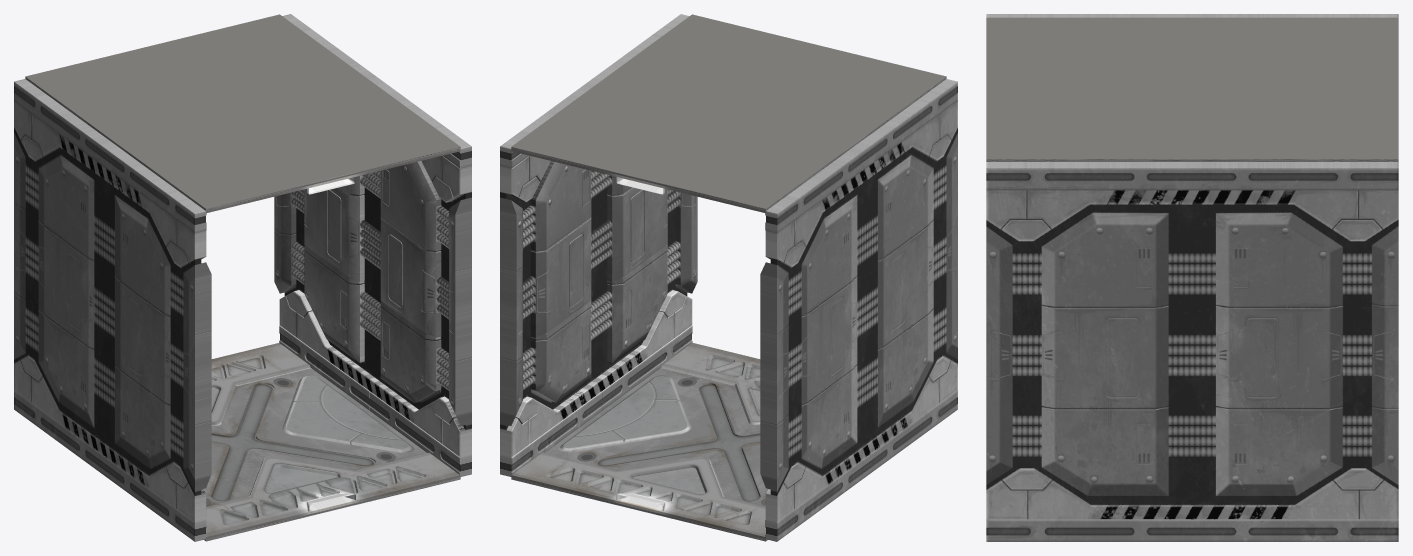
The model's file is lab_wall_01.fbx.
3 renders of one model, left to right at view 1: azimuth 30°, elevation 25°; view 2: azimuth 150°, elevation 25°; view 3: azimuth 270°, elevation 25°, orthographic. The views are drawn at different scales.
Parts seen in each view (by area): view 1: lab_wall_01; view 2: lab_wall_01; view 3: lab_wall_01.
Part boxes in pixels (x1,y1,x2,y2): lab_wall_01: [14, 14, 471, 541]; lab_wall_01: [500, 14, 957, 541]; lab_wall_01: [986, 14, 1398, 541].
Bounding box in the file's own units: 424 × 487 × 480.
Materials: 3 (3 with a texture image).
